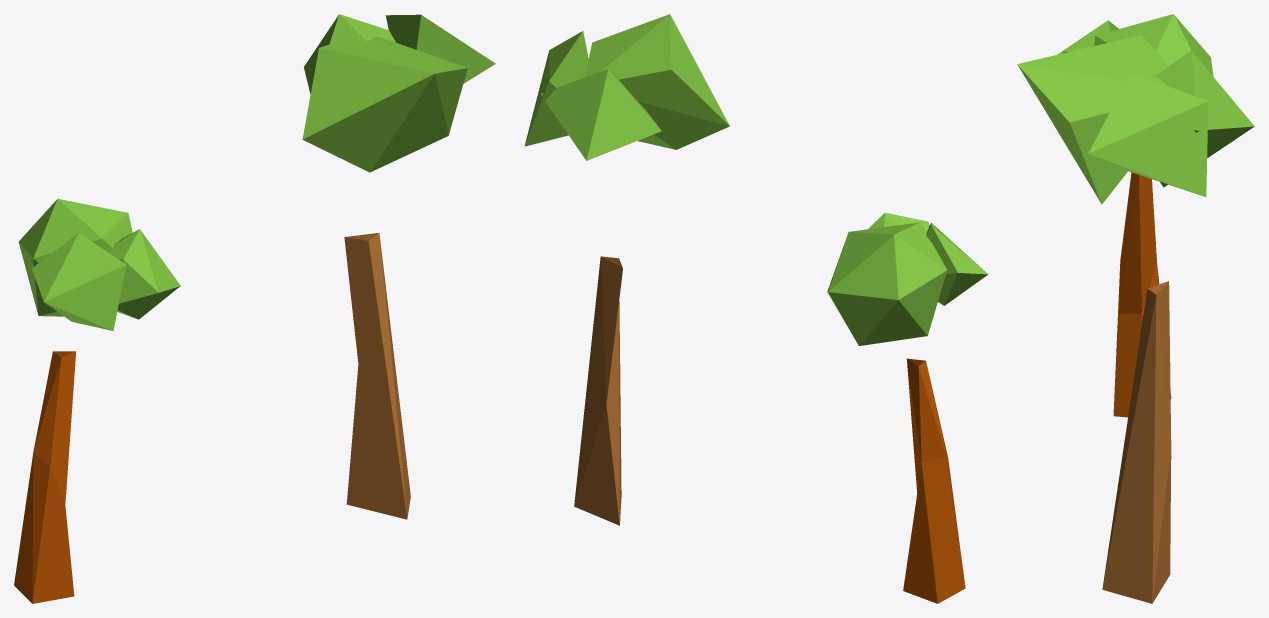
Rendered from trees.glb.
The picture shows the model from 3 angles, left to right: view 1: azimuth 30°, elevation 25°; view 2: azimuth 150°, elevation 25°; view 3: azimuth 270°, elevation 25°; orthographic projection. The views are drawn at different scales.
Parts seen in each view (by area): view 1: Декор.003, Декор.002, Декор.050, Декор.001; view 2: Декор.003, Декор.002, Декор.001, Декор.050; view 3: Декор.003, Декор.050, Декор.001, Декор.002.
Part boxes in pixels (box(x1,y1,x2,y2)): Декор.003: box(302, 14, 495, 172); Декор.002: box(18, 198, 180, 330); Декор.050: box(344, 233, 410, 519); Декор.001: box(14, 351, 76, 603); Декор.003: box(524, 14, 729, 160); Декор.002: box(827, 212, 988, 345); Декор.001: box(903, 358, 965, 603); Декор.050: box(574, 256, 622, 525); Декор.003: box(1017, 35, 1254, 204); Декор.050: box(1102, 281, 1171, 603); Декор.001: box(1113, 172, 1171, 417); Декор.002: box(1057, 14, 1213, 76).
Bounding box in the file's own units: 34.9 × 35.86 × 14.51.
